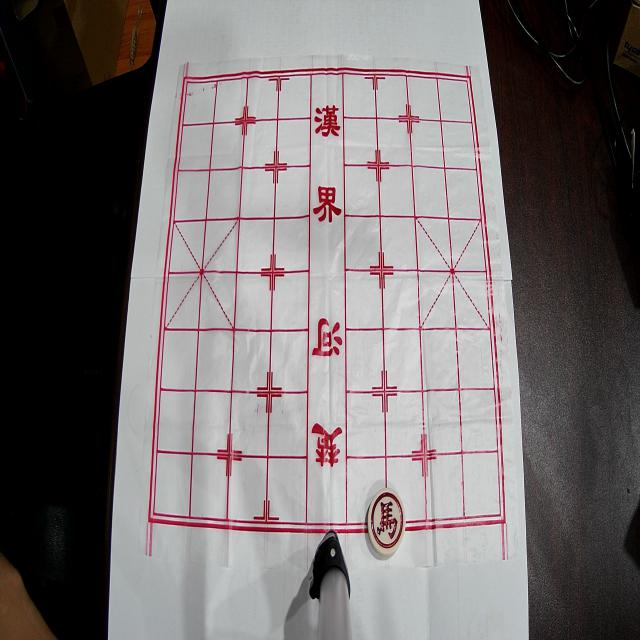red-horse: (368, 488, 406, 556)
